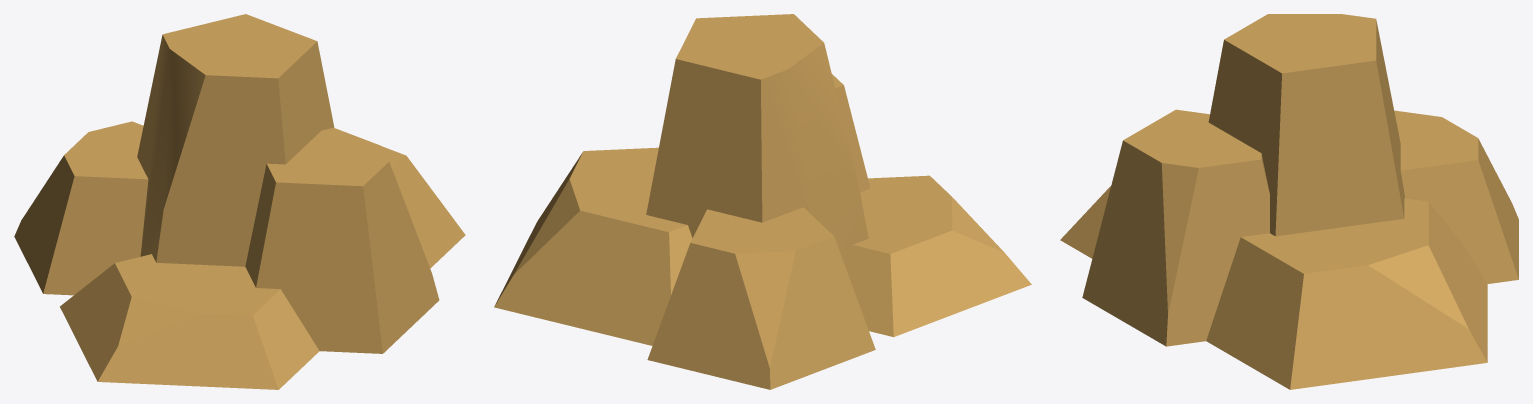
Rendered from rockB.obj.
The picture shows the model from 3 angles, left to right: view 1: azimuth 30°, elevation 25°; view 2: azimuth 150°, elevation 25°; view 3: azimuth 270°, elevation 25°; orthographic projection. The views are drawn at different scales.
Visible parts, largest first — view 1: rockB; view 2: rockB; view 3: rockB.
Part boxes in pixels (box(x1,y1,x2,y2)): rockB: box(14, 14, 465, 389); rockB: box(494, 14, 1031, 389); rockB: box(1060, 14, 1518, 389).
Size of the model in its own units: 0.7991 by 0.4186 by 0.7247.
